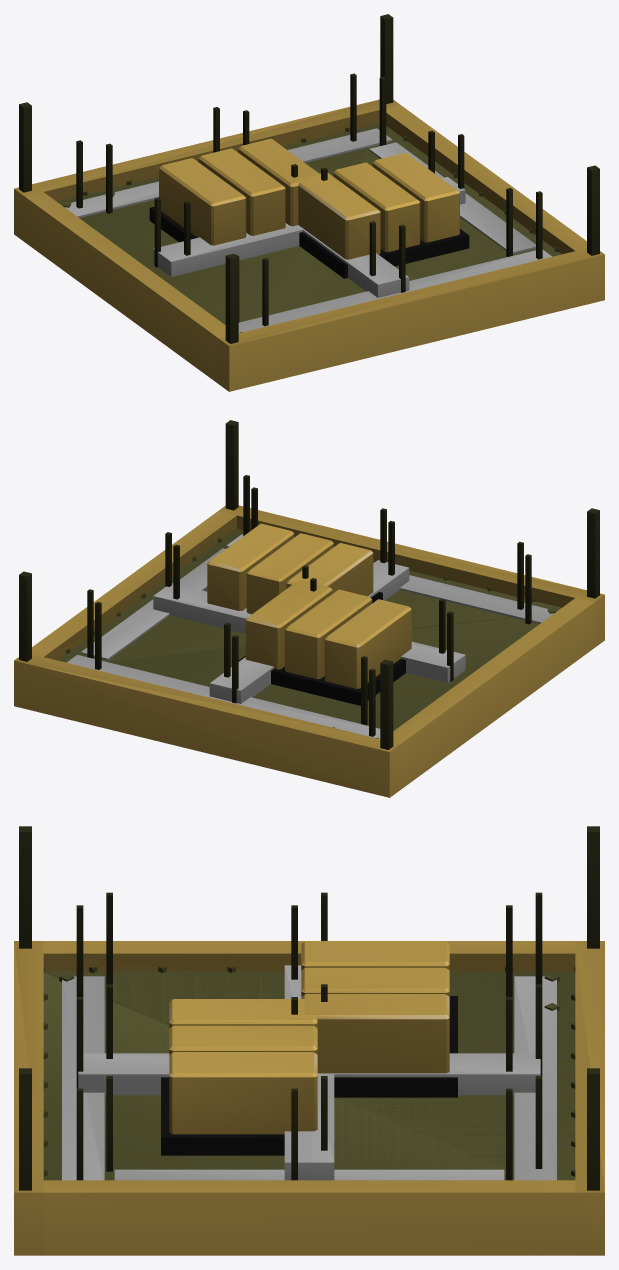
File: meridian_defence_tower_foundation.glb
The picture shows the model from 3 angles, top to bottom: view 1: azimuth 30°, elevation 25°; view 2: azimuth 150°, elevation 25°; view 3: azimuth 270°, elevation 25°; orthographic projection. The views are drawn at different scales.
Visible parts, largest first — view 1: body (×3); view 2: body (×2); view 3: body (×3).
Boxes of the visible parts, x1=… form: body (×3): x1=14, y1=14, x2=604, y2=391; body (×2): x1=14, y1=420, x2=604, y2=797; body (×3): x1=14, y1=826, x2=604, y2=1255.
Size of the model in its own units: 3.61 by 1.2 by 3.58.
